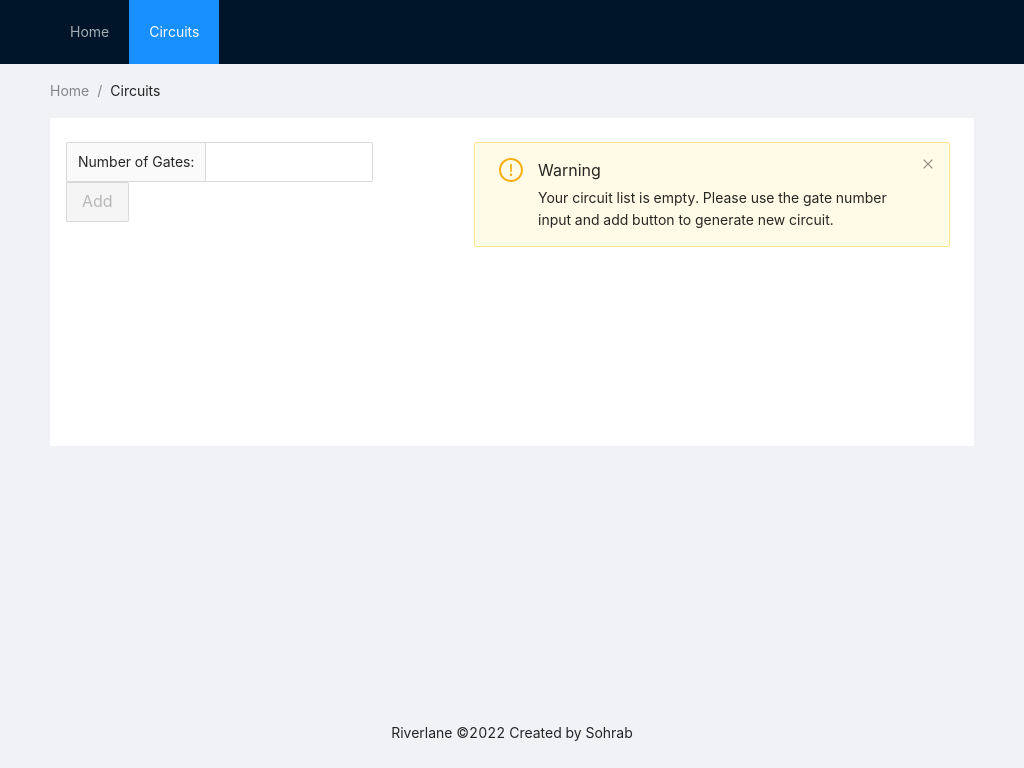
Test case: Routing: › Change content after route change
Check: the number field is shown, box [206, 143, 372, 181]
Click the 1st link "Home" at (90, 32), box [70, 23, 109, 40]
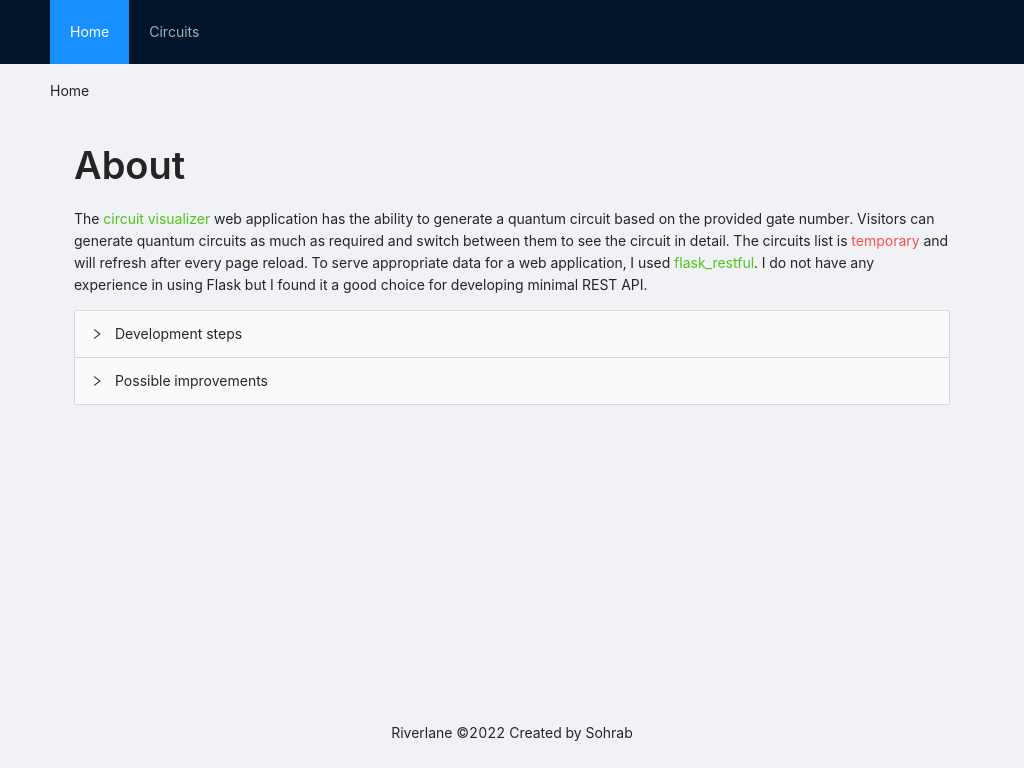
Check: the heading "About" is shown, box [74, 142, 185, 188]
